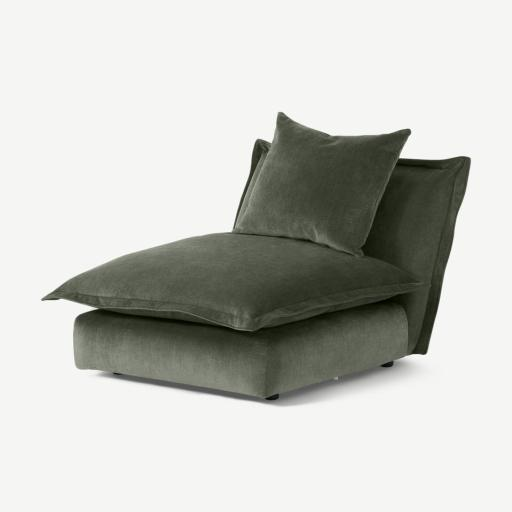back_cushion: (233, 113, 409, 256)
base: (74, 302, 407, 398)
one-seater: (0, 0, 511, 512)
seat_cushion: (43, 233, 427, 331)
